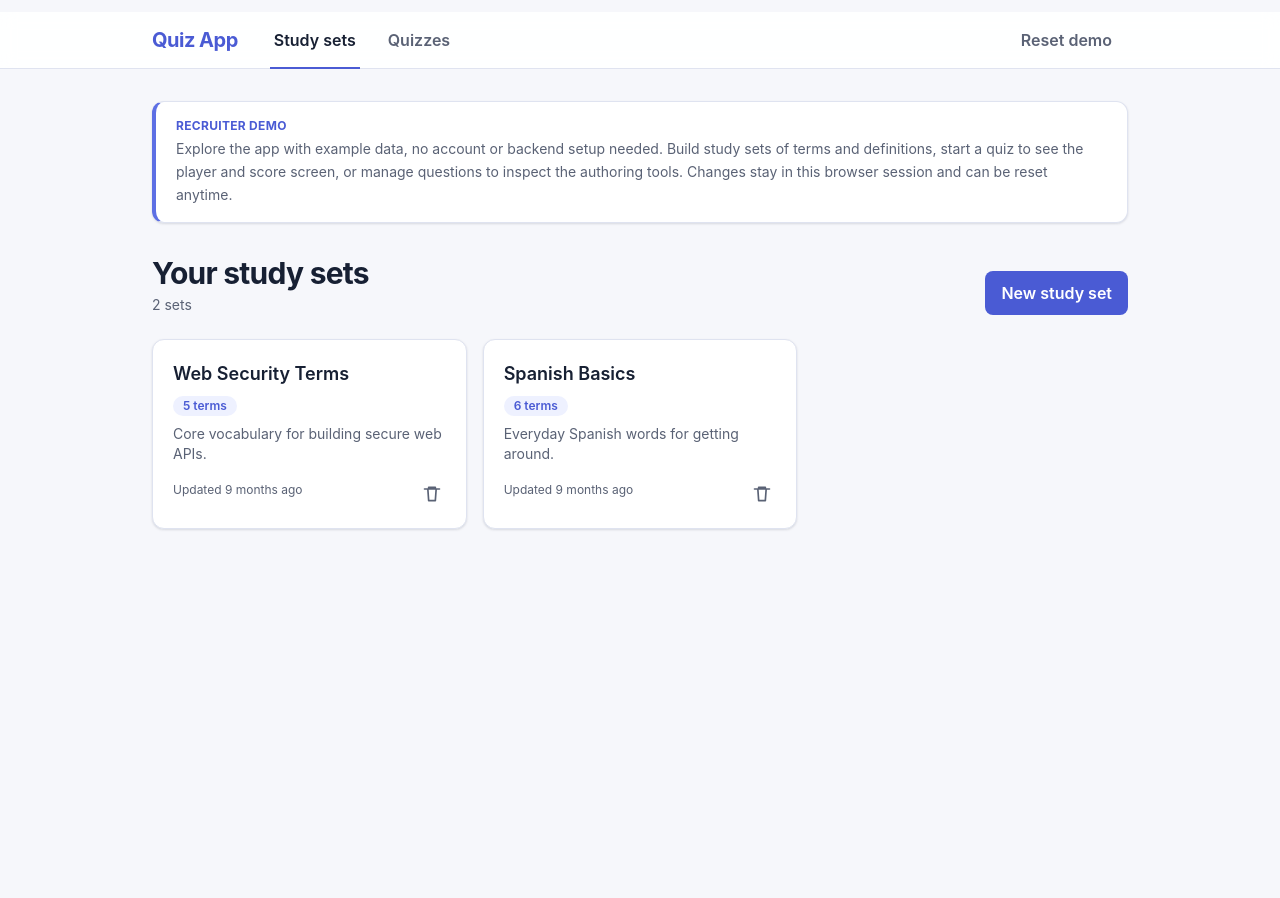
HomePage tabs › restores the URL-selected study set after switching to Quizzes and back
Click the button "Web Security Terms": (261, 374) left=173, top=360, right=349, bottom=388
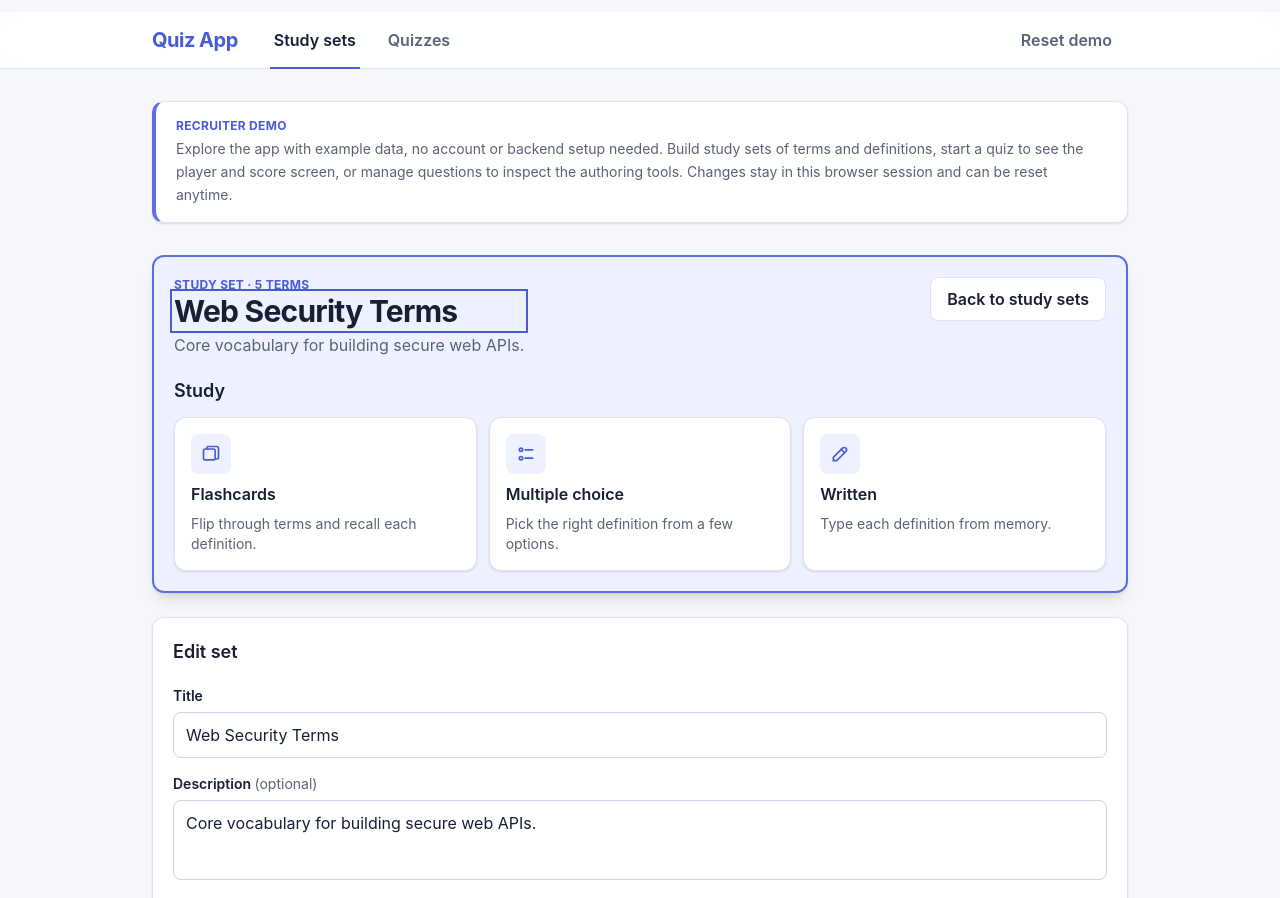
Click the button "Quizzes": (419, 40) left=384, top=12, right=454, bottom=68
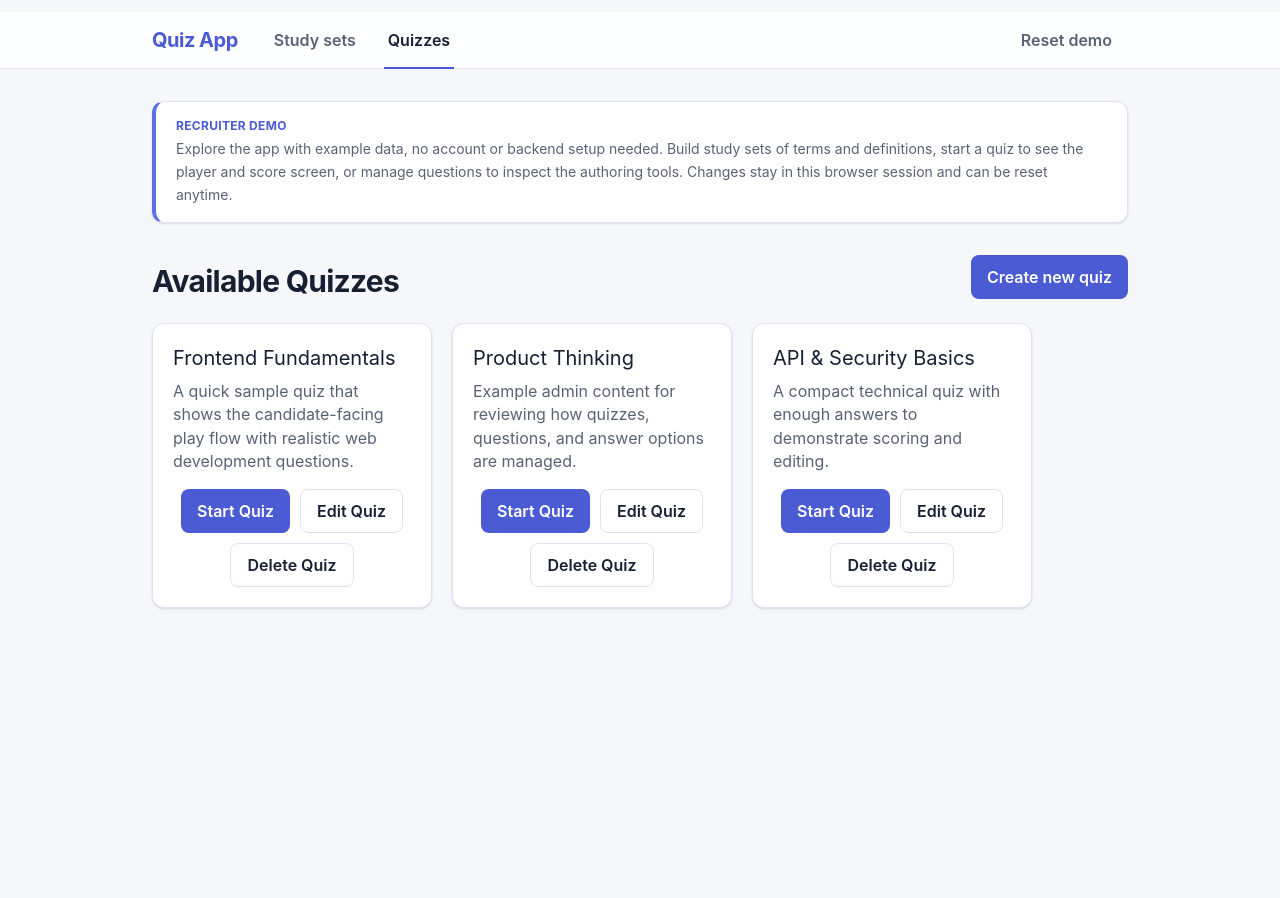
Now the heading "Web Security Terms" is gone
Click the button "Study sets": (315, 40) left=270, top=12, right=360, bottom=68
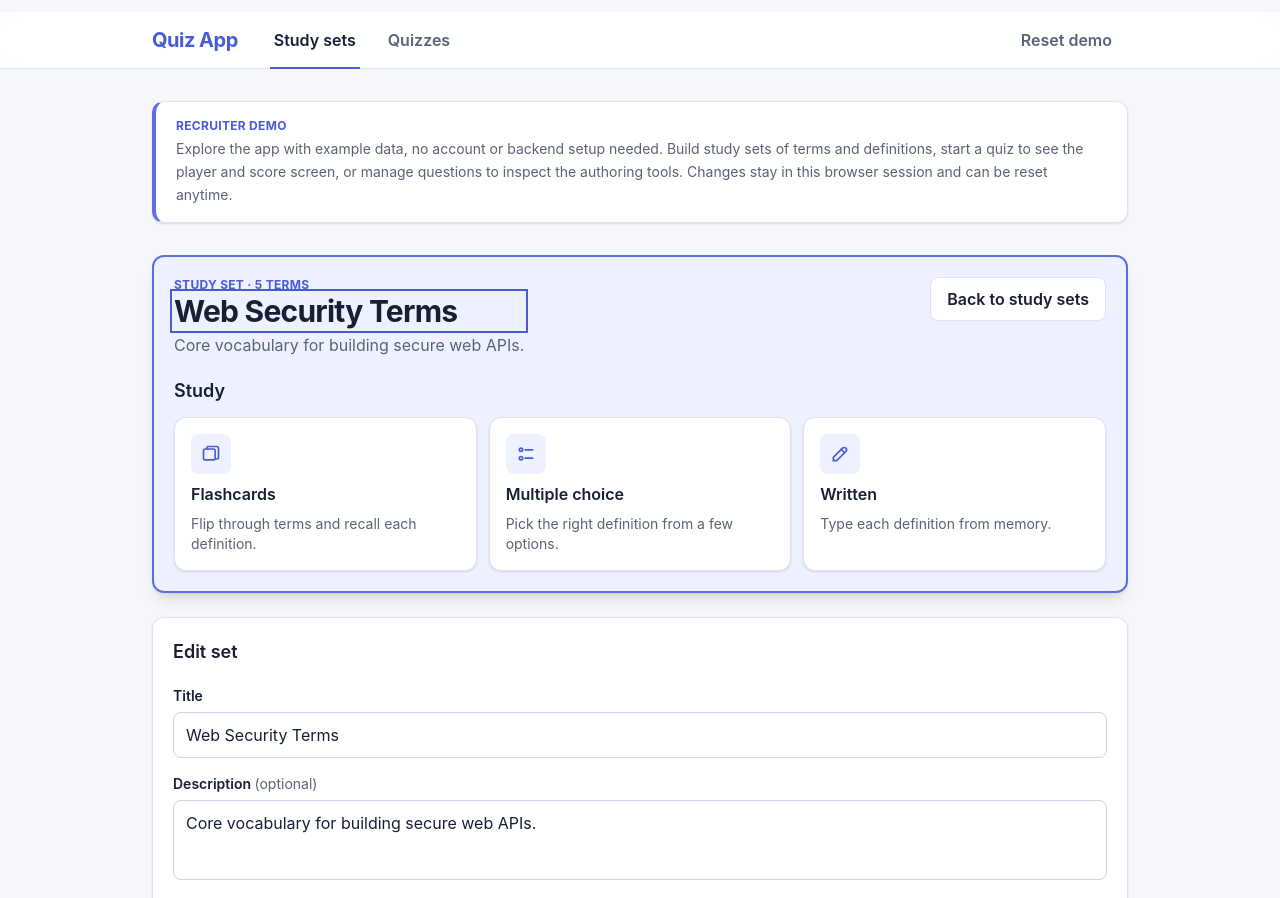
Now the heading "Web Security Terms" is shown, box left=174, top=293, right=457, bottom=329
Now the field showing "Web Security Terms" is shown, box left=173, top=712, right=1107, bottom=758
